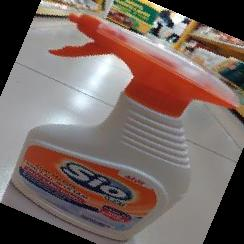sio: (9, 12, 240, 240)
